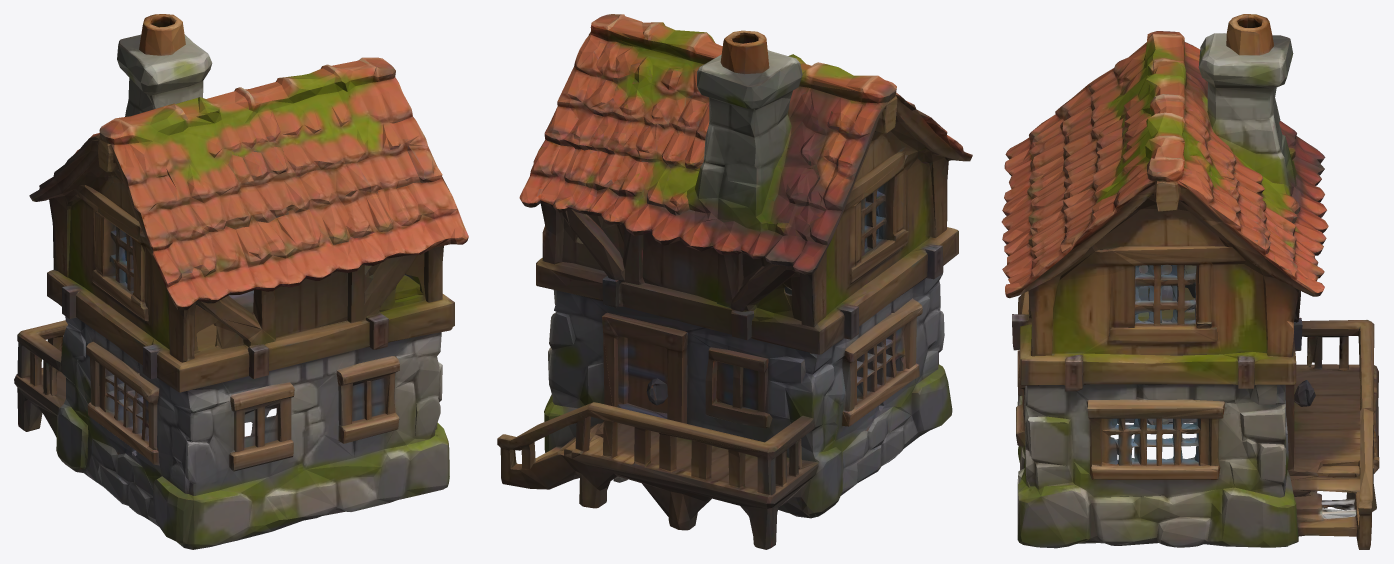
File: house_red.glb
3 renders of one model, left to right at view 1: azimuth 30°, elevation 25°; view 2: azimuth 150°, elevation 25°; view 3: azimuth 270°, elevation 25°, orthographic. The views are drawn at different scales.
Parts seen in each view (by area): view 1: world; view 2: world; view 3: world.
Part boxes in pixels (x1,y1,x2,y2): world: [14, 14, 468, 549]; world: [497, 14, 972, 549]; world: [1001, 14, 1379, 549].
Bounding box in the file's own units: 0.7107 × 0.9986 × 0.7761.
1 material, 1 textured.
